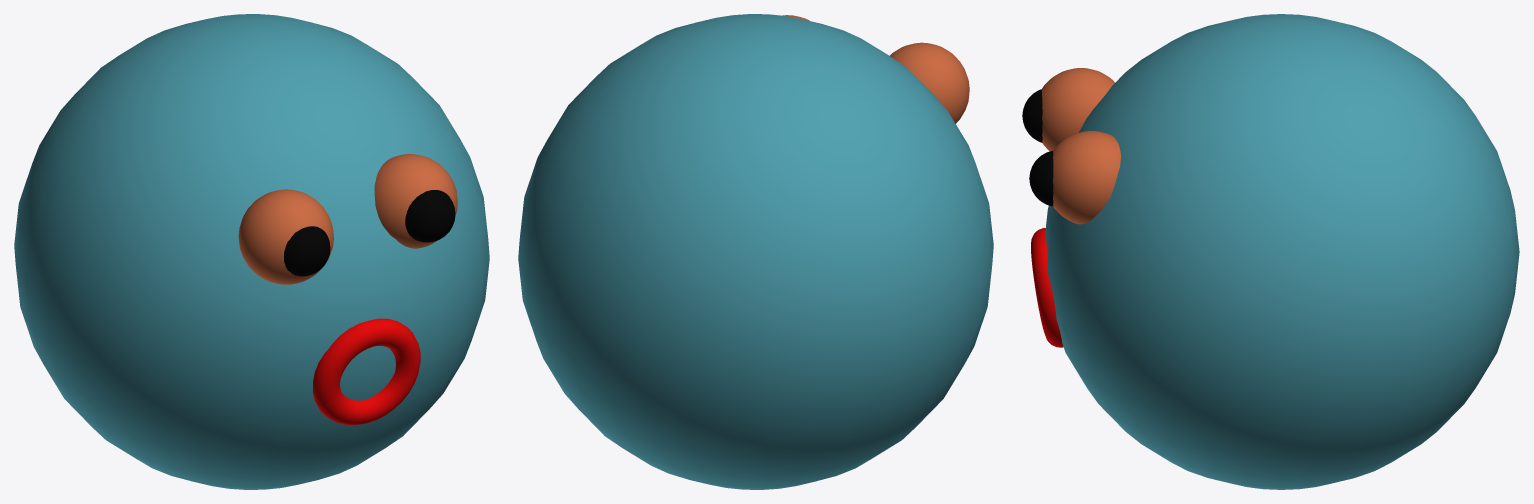
The model's file is avshalom.fbx.
3 views of the same model, side by side, from view 1: azimuth 30°, elevation 25°; view 2: azimuth 150°, elevation 25°; view 3: azimuth 270°, elevation 25° (orthographic).
Visible parts, largest first — view 1: Sphere, Torus, Sphere_1, Sphere_2, Sphere_5, Sphere_4; view 2: Sphere, Sphere_1; view 3: Sphere, Sphere_2, Sphere_1, Torus, Sphere_5, Sphere_4.
Boxes of the visible parts, box(x1,y1,x2,y2) form: Sphere: box(14, 14, 489, 489); Torus: box(313, 318, 420, 425); Sphere_1: box(238, 189, 333, 284); Sphere_2: box(374, 154, 457, 248); Sphere_5: box(405, 190, 455, 242); Sphere_4: box(284, 226, 330, 276); Sphere: box(518, 14, 993, 489); Sphere_1: box(890, 42, 969, 123); Sphere: box(1045, 14, 1519, 489); Sphere_2: box(1053, 131, 1120, 224); Sphere_1: box(1041, 68, 1114, 151); Torus: box(1031, 228, 1063, 347); Sphere_5: box(1029, 151, 1053, 206); Sphere_4: box(1022, 89, 1042, 142).
Size of the model in its own units: 200 by 200 by 209.
